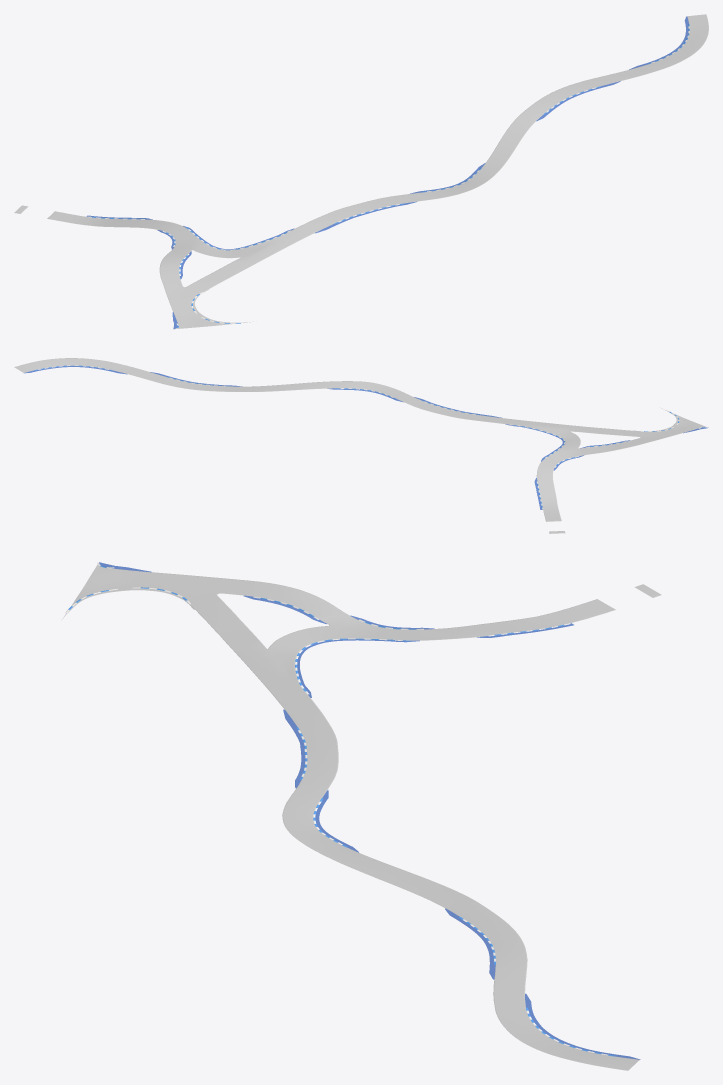
Rendered from track_road_infield1.dae.
The picture shows the model from 3 angles, top to bottom: view 1: azimuth 30°, elevation 25°; view 2: azimuth 150°, elevation 25°; view 3: azimuth 270°, elevation 25°; orthographic projection. The views are drawn at different scales.
Parts seen in each view (by area): view 1: road_track_infield1_a6000; view 2: road_track_infield1_a6000; view 3: road_track_infield1_a6000.
Boxes of the visible parts, x1,y1,x2,y2 form: road_track_infield1_a6000: (14, 14, 708, 329); road_track_infield1_a6000: (14, 358, 708, 533); road_track_infield1_a6000: (61, 562, 661, 1070).
Size of the model in its own units: 464 by 215 by 21.85.
